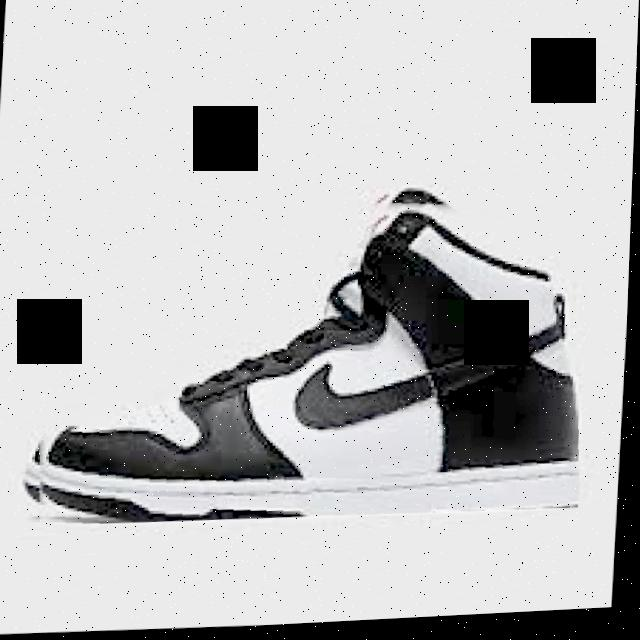shoe: (25, 172, 597, 536)
